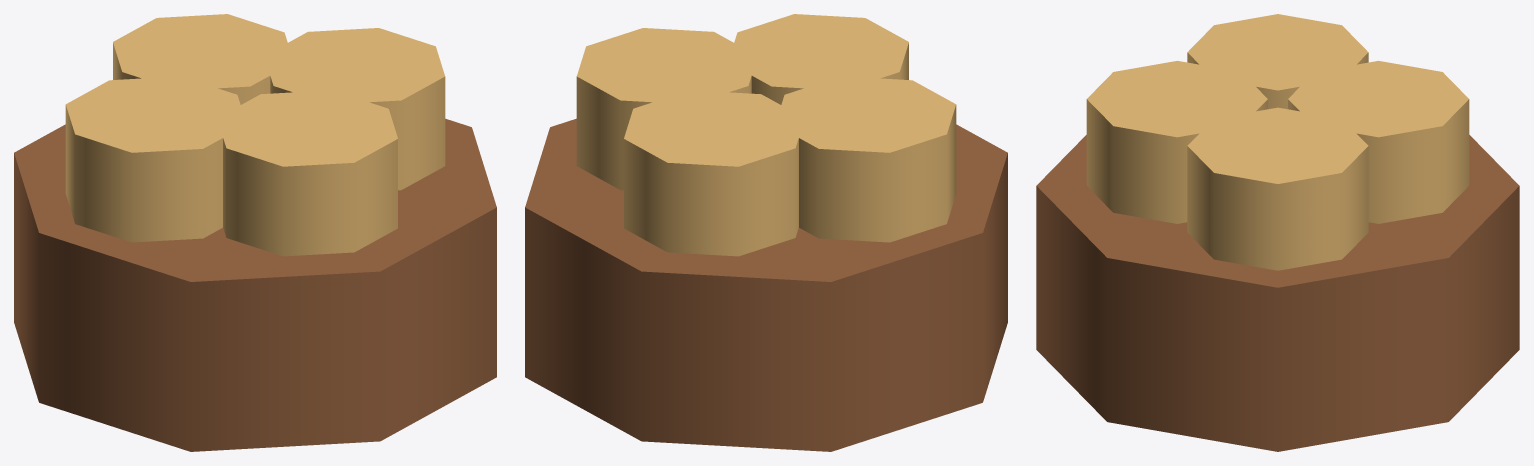
File: market_basket.glb
3 renders of one model, left to right at view 1: azimuth 30°, elevation 25°; view 2: azimuth 150°, elevation 25°; view 3: azimuth 270°, elevation 25°, orthographic. The views are drawn at different scales.
Parts seen in each view (by area): view 1: _MeshInstance3D_279, _MeshInstance3D_283, _MeshInstance3D_280, _MeshInstance3D_281, _MeshInstance3D_282; view 2: _MeshInstance3D_279, _MeshInstance3D_282, _MeshInstance3D_280, _MeshInstance3D_281, _MeshInstance3D_283; view 3: _MeshInstance3D_279, _MeshInstance3D_281, _MeshInstance3D_283, _MeshInstance3D_282, _MeshInstance3D_280.
Boxes of the visible parts, x1,y1,x2,y2 form: _MeshInstance3D_279: (14, 118, 496, 451); _MeshInstance3D_283: (217, 90, 397, 256); _MeshInstance3D_280: (65, 76, 246, 242); _MeshInstance3D_281: (264, 28, 445, 190); _MeshInstance3D_282: (113, 14, 288, 104); _MeshInstance3D_279: (525, 118, 1007, 451); _MeshInstance3D_282: (624, 90, 804, 256); _MeshInstance3D_280: (775, 76, 956, 242); _MeshInstance3D_281: (576, 28, 757, 190); _MeshInstance3D_283: (733, 14, 908, 104); _MeshInstance3D_279: (1036, 135, 1519, 451); _MeshInstance3D_281: (1187, 107, 1368, 270); _MeshInstance3D_283: (1086, 60, 1267, 223); _MeshInstance3D_282: (1288, 60, 1469, 223); _MeshInstance3D_280: (1187, 14, 1368, 109).
Bounding box in the file's own units: 0.96 × 0.55 × 0.96.
